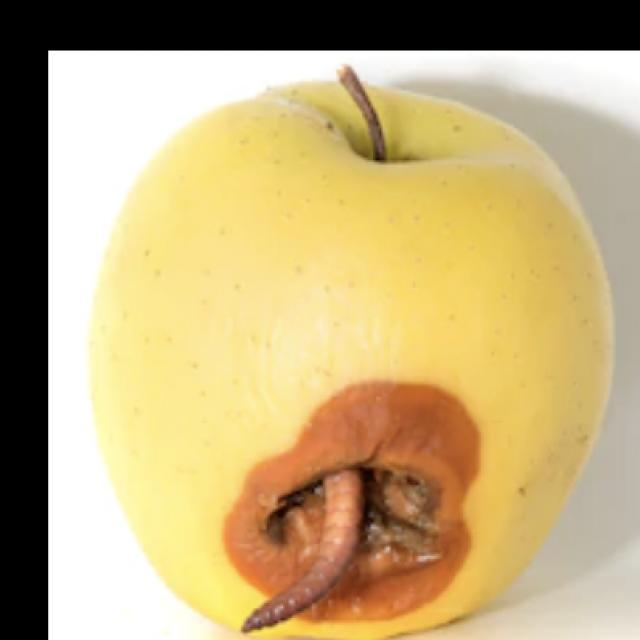Rotten: (106, 83, 601, 640)
